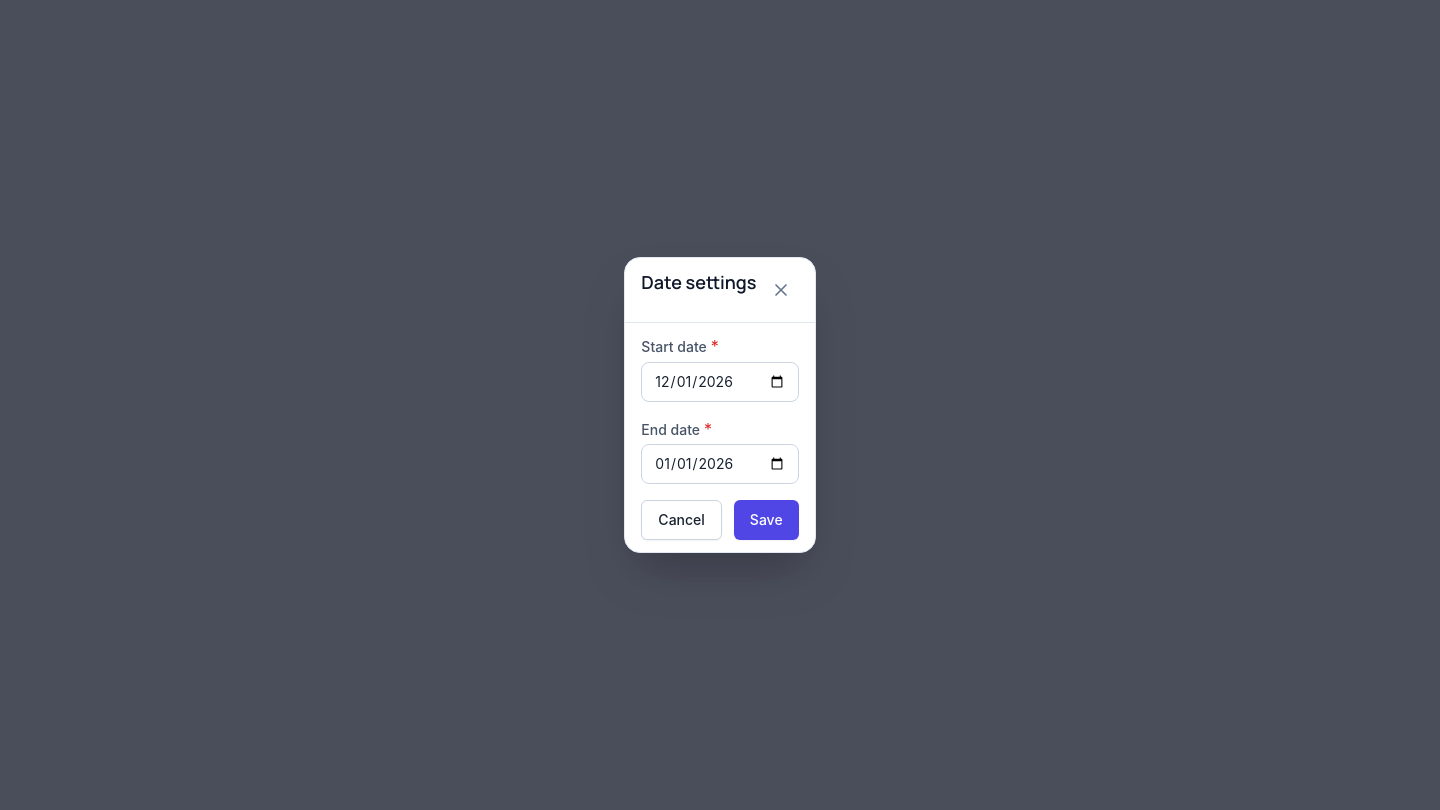
rejects reversed date fields without saving
Click the button "Save". click: (766, 520)
box: [734,500,799,540]
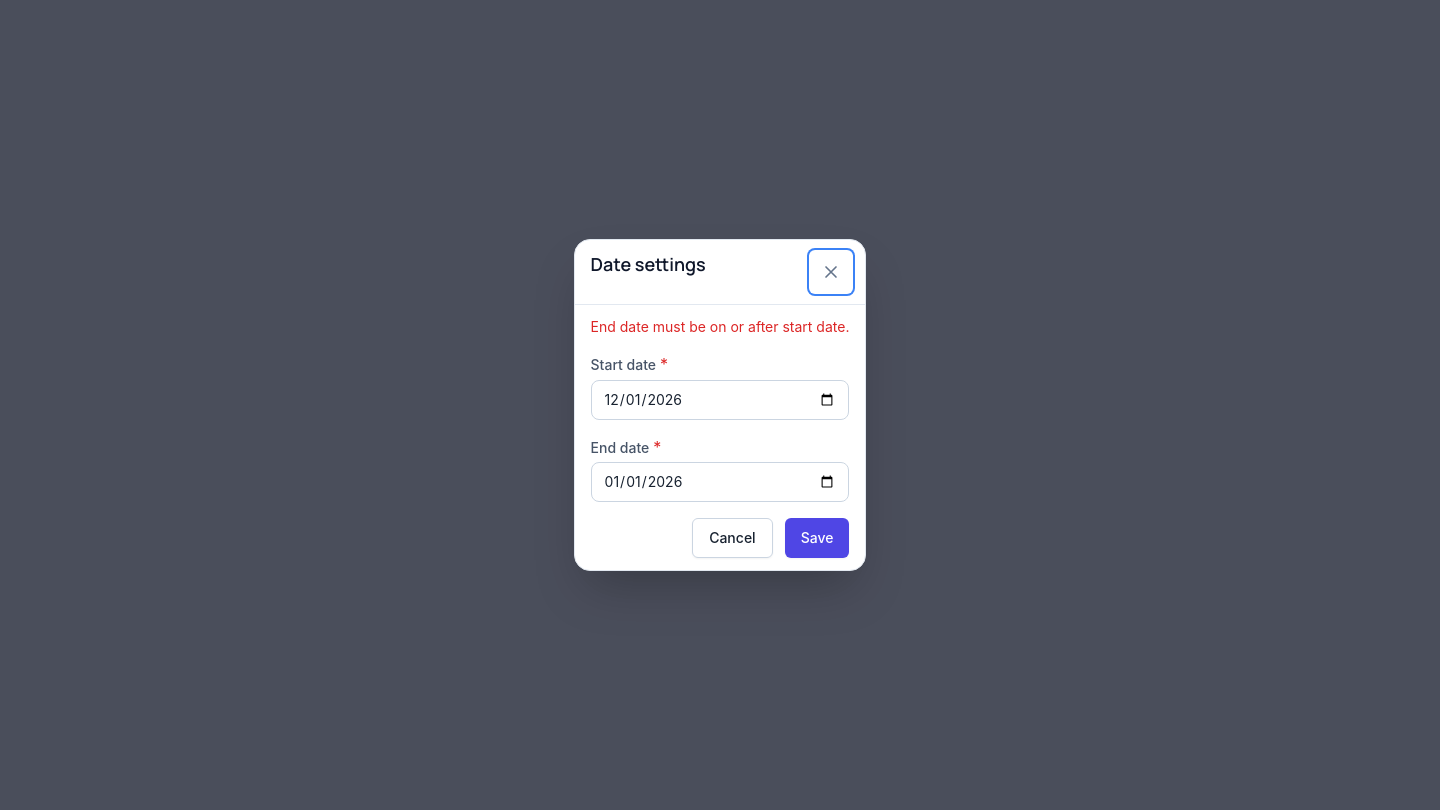
expect the message reads "End date must be on or after start date.": met, box [591,318,850,335]
